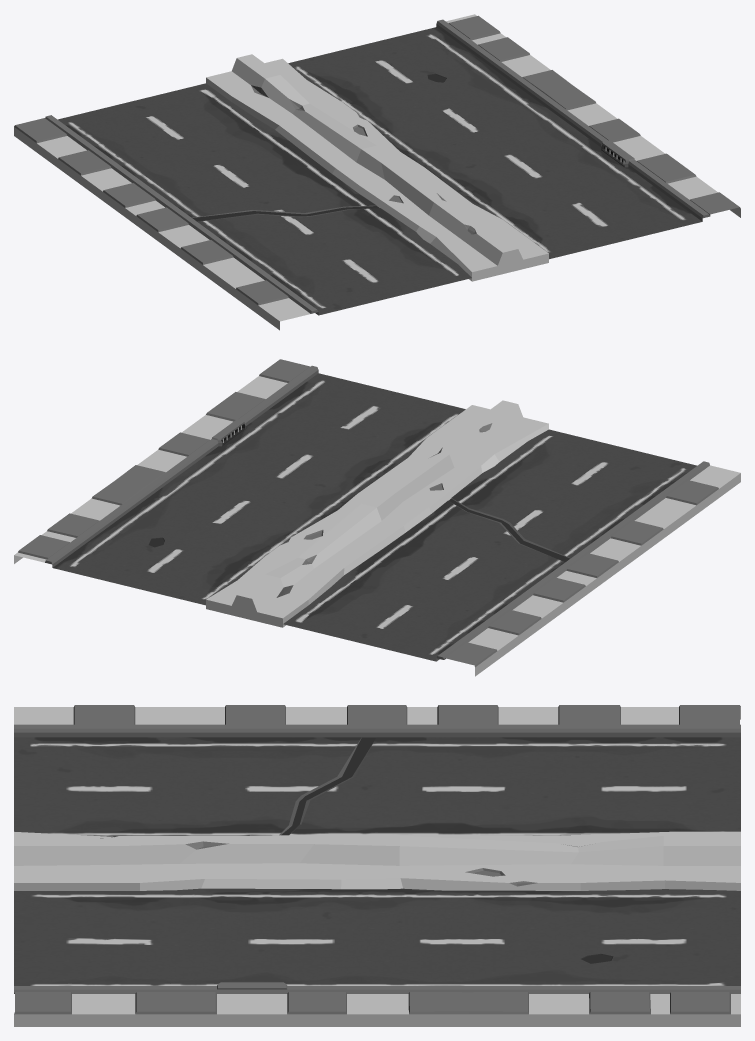
File: Highway_Straight.fbx
3 renders of one model, top to bottom at view 1: azimuth 30°, elevation 25°; view 2: azimuth 150°, elevation 25°; view 3: azimuth 270°, elevation 25°, orthographic. The views are drawn at different scales.
Parts seen in each view (by area): view 1: Highway_Straight; view 2: Highway_Straight; view 3: Highway_Straight.
Part boxes in pixels (bbox=[...]): Highway_Straight: bbox=[14, 14, 740, 330]; Highway_Straight: bbox=[14, 359, 740, 676]; Highway_Straight: bbox=[14, 705, 740, 1026].
Bounding box in the file's own units: 2400 × 117 × 2400.
